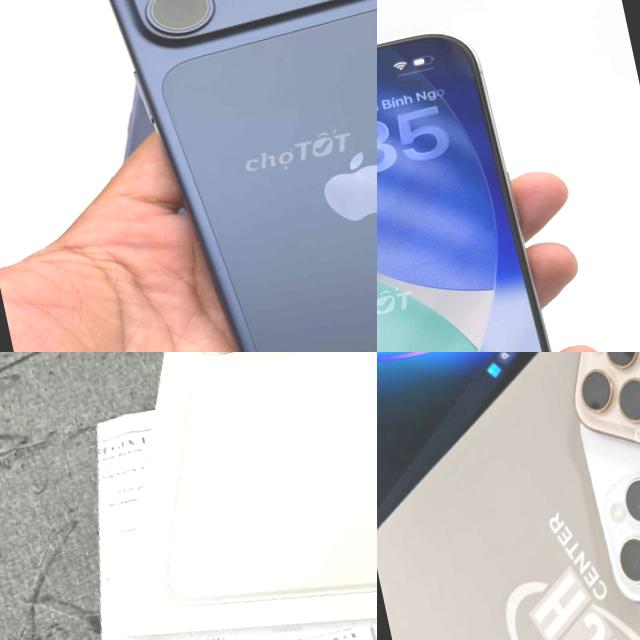gen_16: (542, 352, 640, 578)
gen_17: (73, 0, 377, 352), (101, 352, 377, 640), (377, 12, 602, 352)
